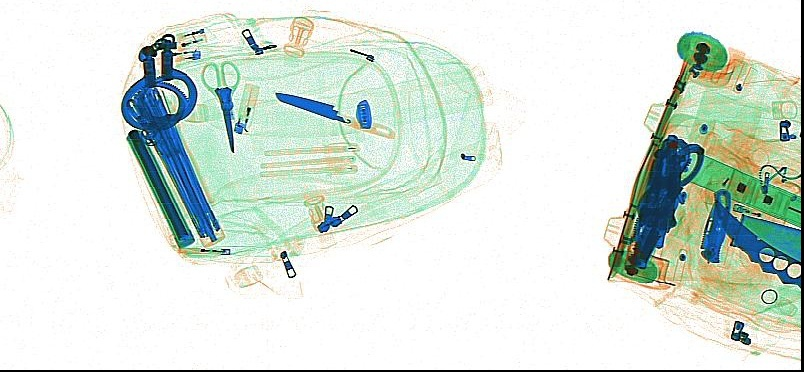handcuffs: (119, 34, 197, 131), (627, 132, 703, 230)
knife: (713, 198, 799, 287), (274, 92, 395, 139), (699, 187, 730, 262)
lighter: (232, 82, 260, 133), (157, 26, 207, 54), (151, 46, 200, 62), (177, 245, 230, 256)
scissors: (200, 59, 239, 152)
